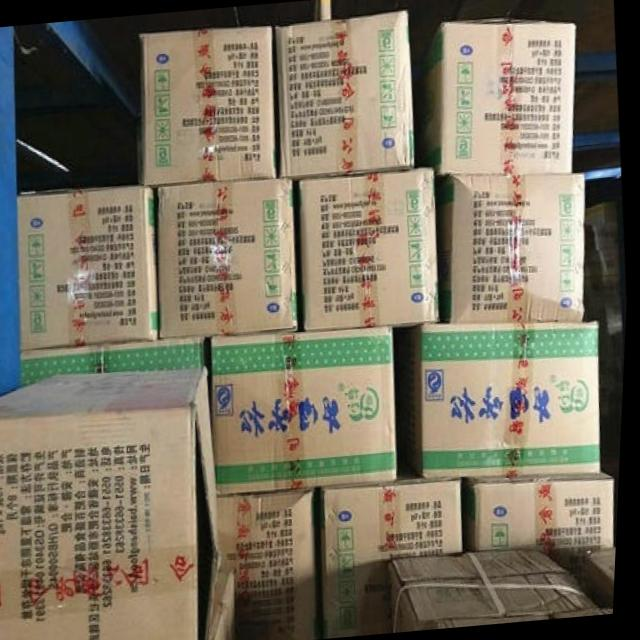box: (0, 370, 223, 640), (398, 321, 606, 479), (213, 327, 403, 496), (295, 168, 443, 330), (418, 24, 576, 173), (275, 12, 414, 178), (435, 174, 585, 325), (323, 480, 469, 635), (157, 179, 300, 337), (18, 189, 159, 349), (140, 29, 279, 183), (466, 473, 619, 593), (397, 550, 607, 631), (222, 491, 323, 640), (22, 336, 215, 389), (592, 547, 621, 612)
